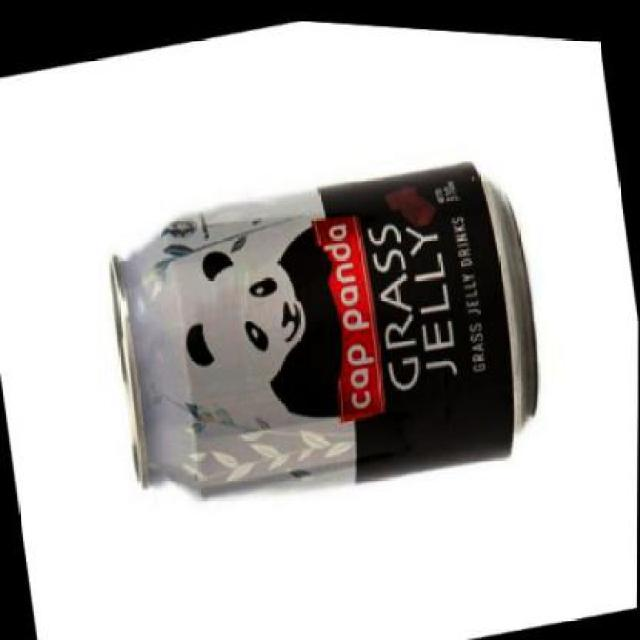Metal: (100, 157, 544, 500)
